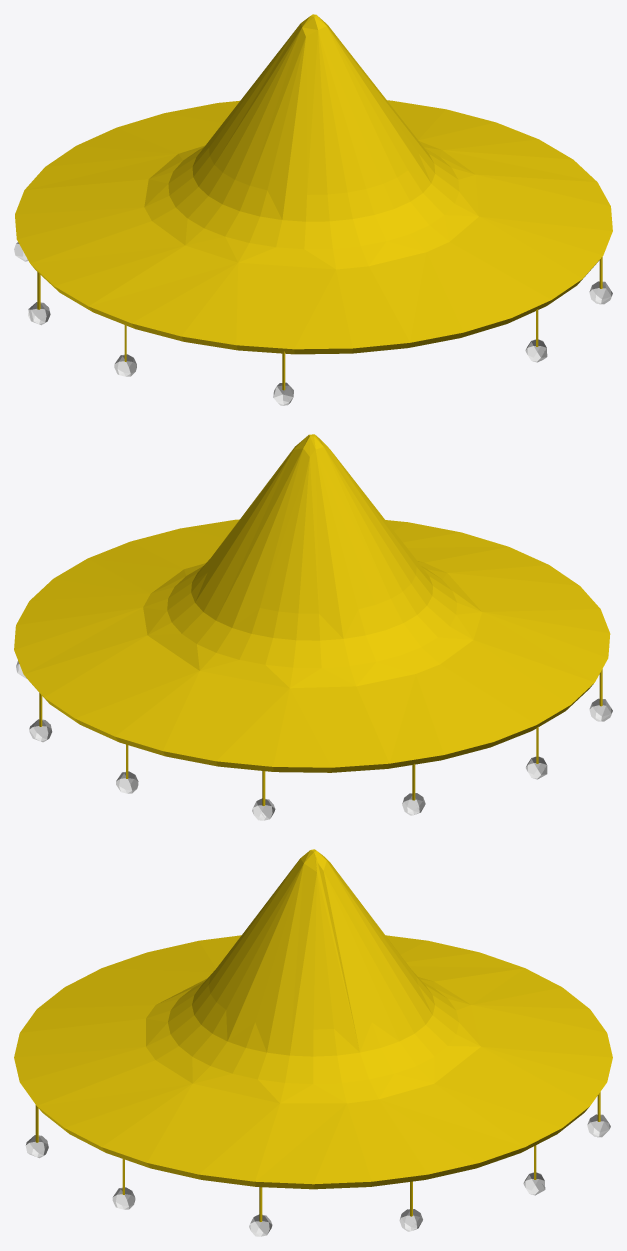
Rendered from sombrero-hat-my-guy_CxDnECpFJH.glb.
3 views of the same model, one above another, from view 1: azimuth 30°, elevation 25°; view 2: azimuth 150°, elevation 25°; view 3: azimuth 270°, elevation 25° (orthographic).
Visible parts, largest first — view 1: Circle; view 2: Circle; view 3: Circle.
Part boxes in pixels (x1,y1,x2,y2): Circle: [14, 14, 612, 405]; Circle: [14, 434, 612, 820]; Circle: [14, 849, 612, 1236].
Size of the model in its own units: 3.73 by 1.82 by 3.72.
